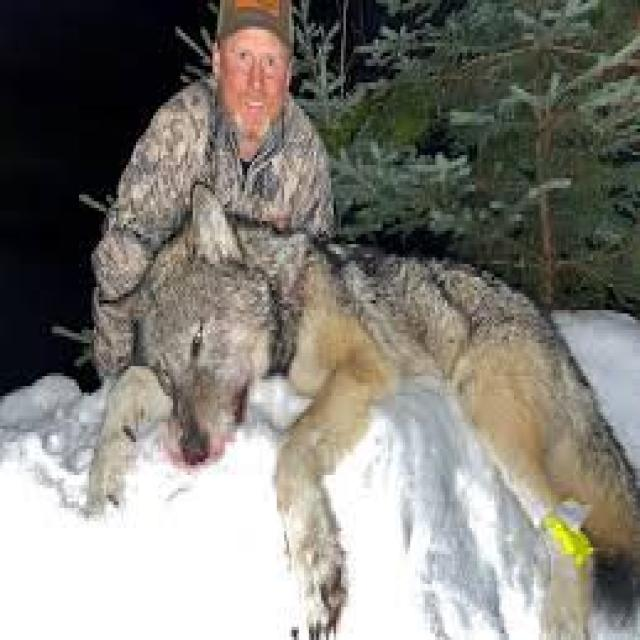Wolf: (126, 178, 638, 637)
